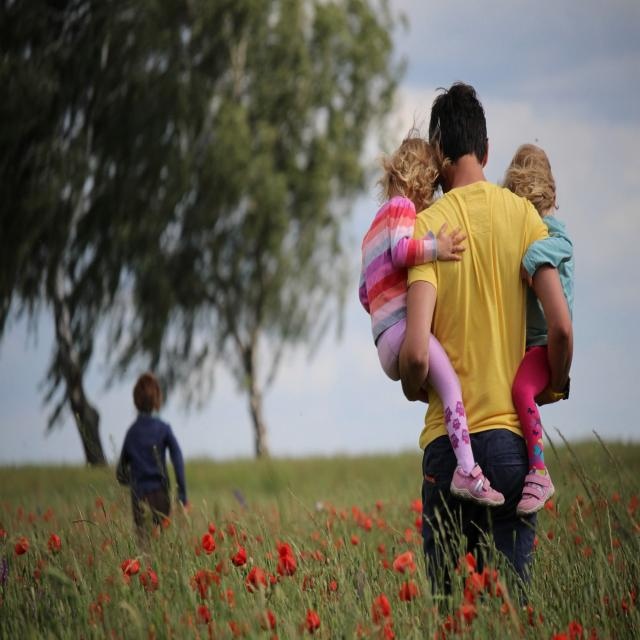adult: (399, 72, 577, 567)
child: (358, 134, 502, 508), (501, 141, 569, 518), (115, 373, 193, 532)
